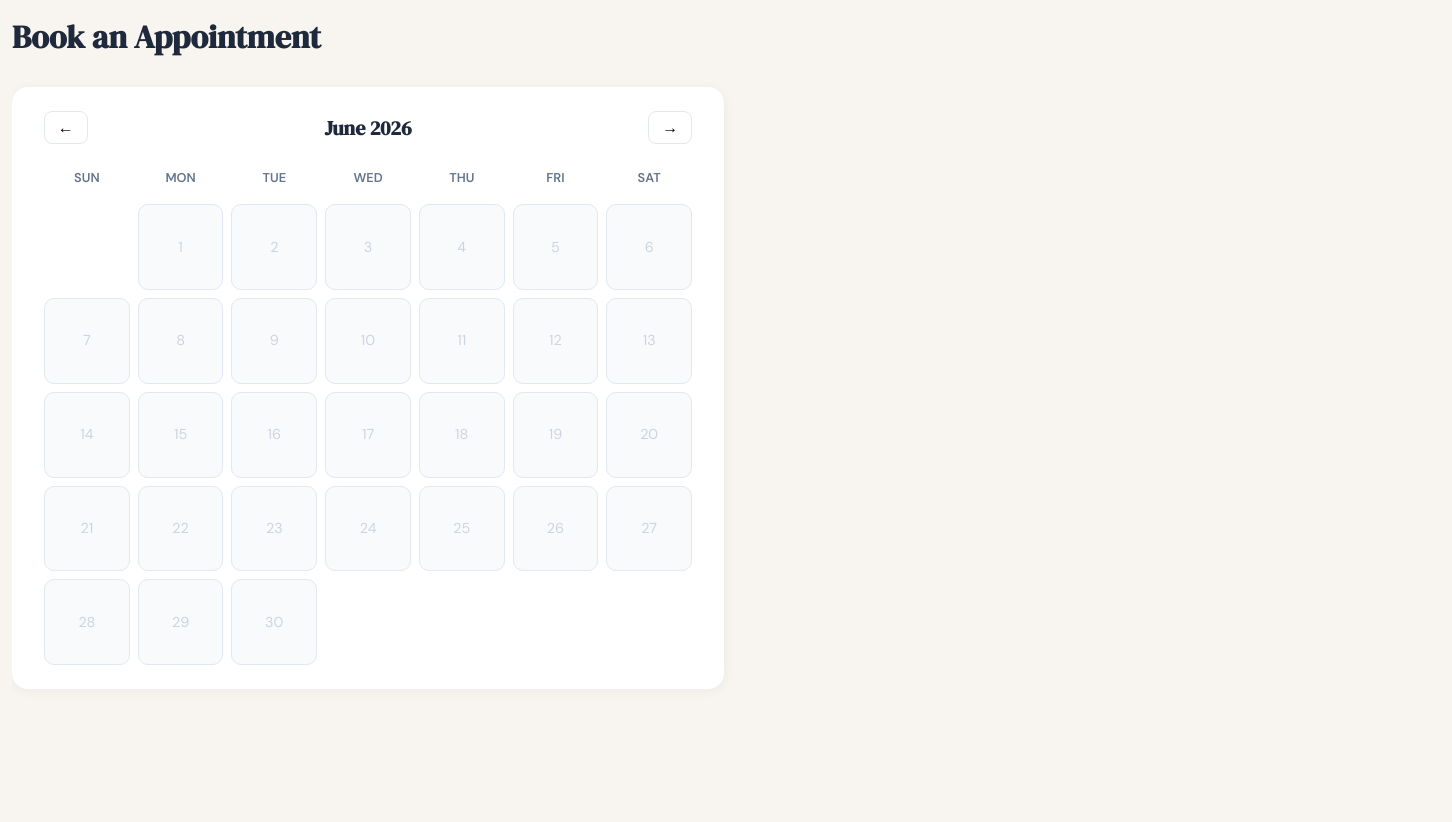
Test: BookAppointment › shows error message when no slots available
The width and height of the screenshot is (1452, 822).
Note: Click a date to load slots
Click the text "15" at (181, 435), box [138,392,223,478]
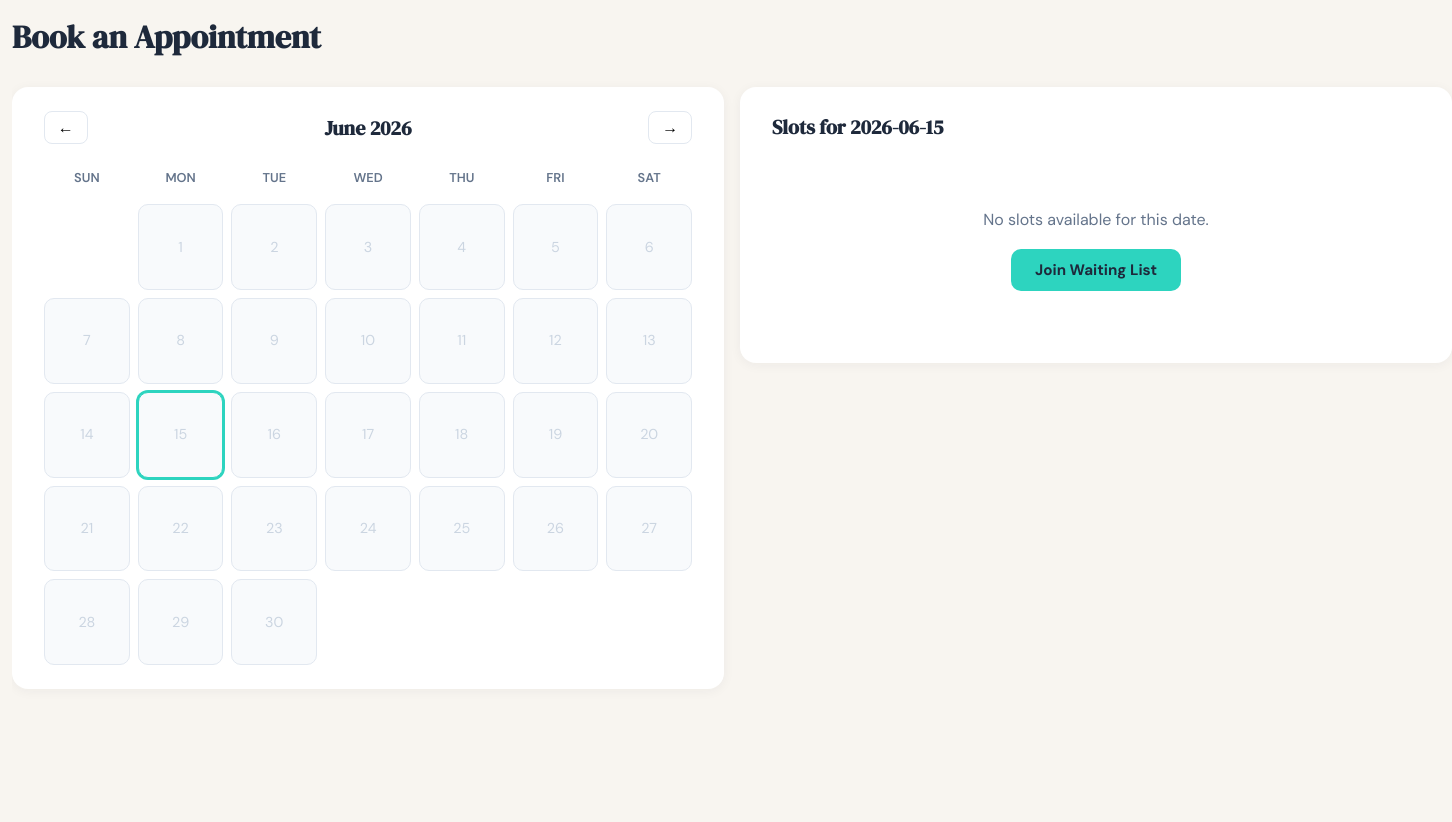
Check: the text "No slots available for this date." is shown, box [983,209,1209,230]
Check: the button "Join Waiting List" is shown, box [1011,249,1181,291]
